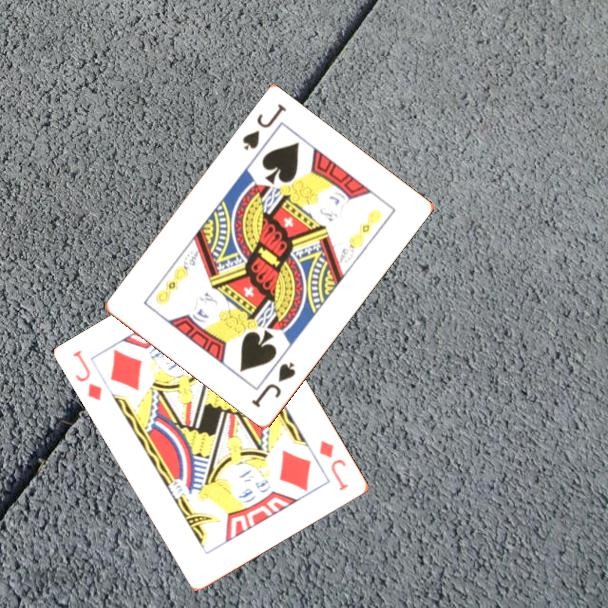d11: (69, 346, 105, 404), (316, 437, 351, 494)
s11: (239, 100, 290, 154), (248, 359, 299, 411)
